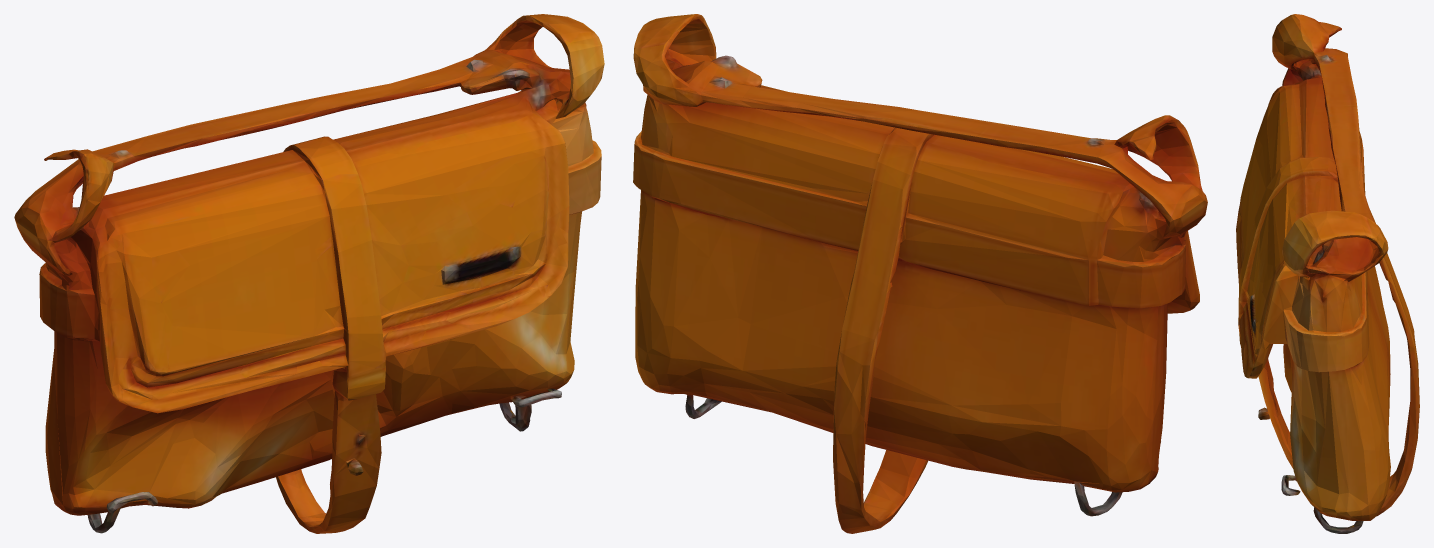
The picture shows the model from 3 angles, left to right: view 1: azimuth 30°, elevation 25°; view 2: azimuth 150°, elevation 25°; view 3: azimuth 270°, elevation 25°; orthographic projection. The views are drawn at different scales.
Parts seen in each view (by area): view 1: geometry_0; view 2: geometry_0; view 3: geometry_0.
Boxes of the visible parts, x1,y1,x2,y2 form: geometry_0: (14,14,604,533); geometry_0: (633,14,1207,533); geometry_0: (1236,14,1419,533).
Bounding box in the file's own units: 0.9958 × 0.7878 × 0.3352.
1 material, 1 textured.
